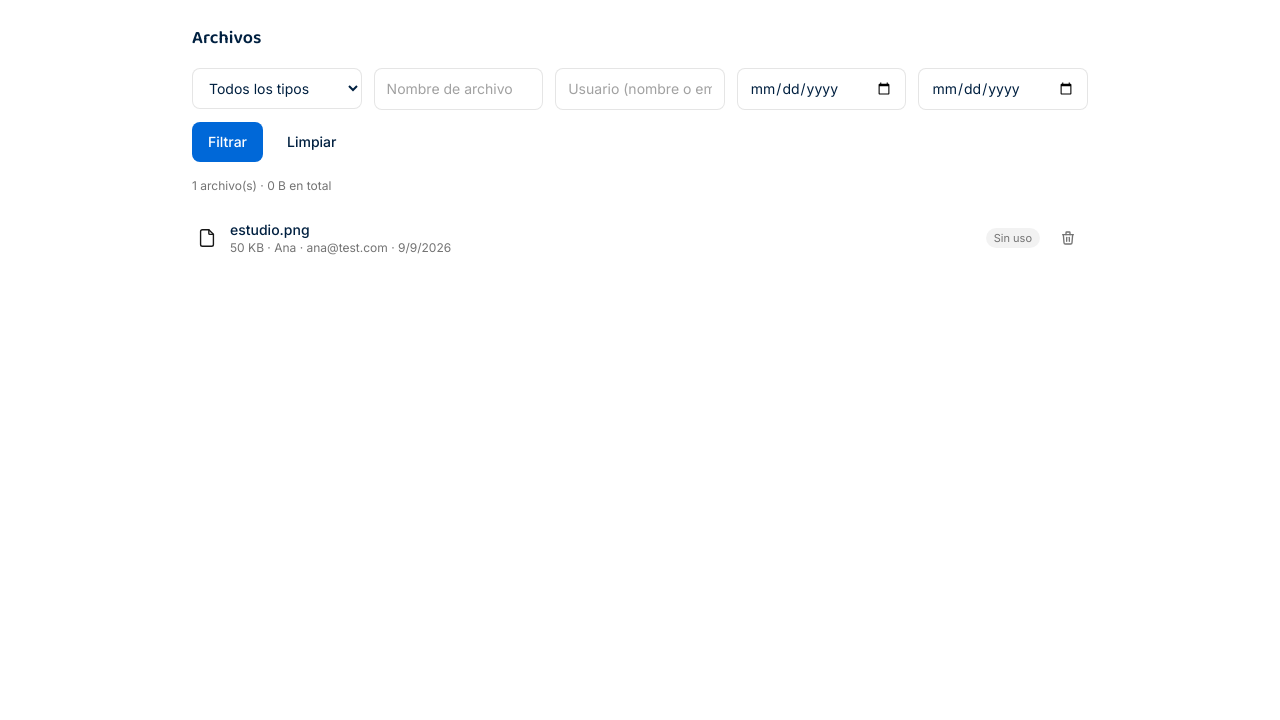
Test case: AdminFilesPanel › cancelar en el modal de confirmación no borra el archivo ni cierra la lista
What coordinates should you click on to do the following:
click the button named "Eliminar estudio.png"
I would click on:
 (1068, 238)
Its box is [1052, 222, 1084, 254].
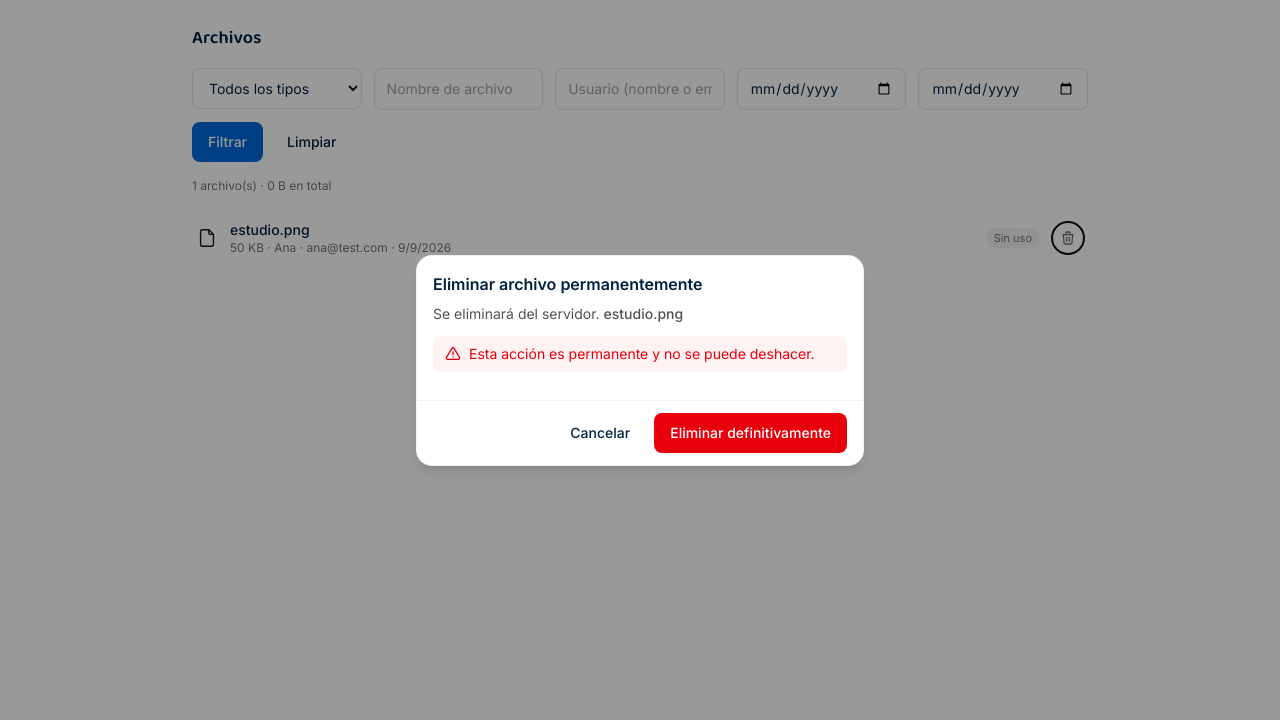
Expected: the heading "Eliminar archivo permanentemente" is shown, [433, 274, 702, 294]
What coordinates should you click on to do the following:
click the button "Cancelar"
I would click on:
 (600, 432)
Its box is [554, 412, 646, 452].
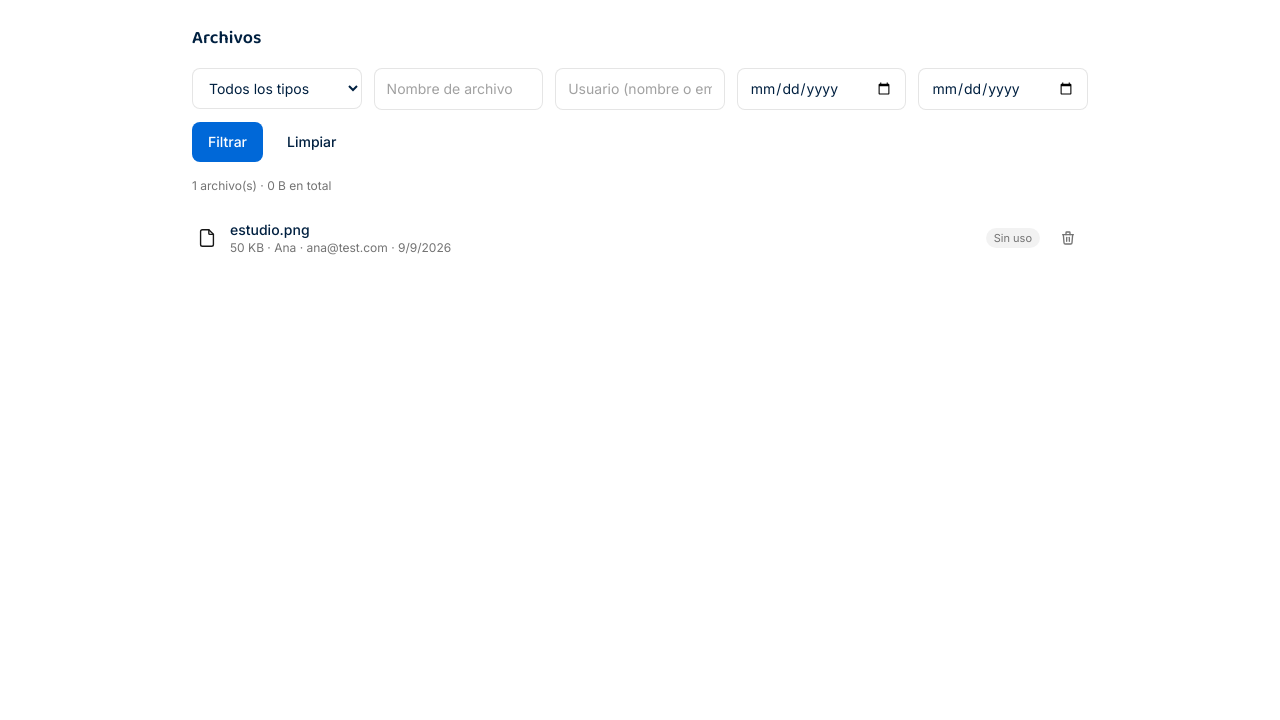
Expected: the text "estudio.png" is shown, [230, 221, 310, 238]
Expected: the heading "Eliminar archivo permanentemente" is gone
